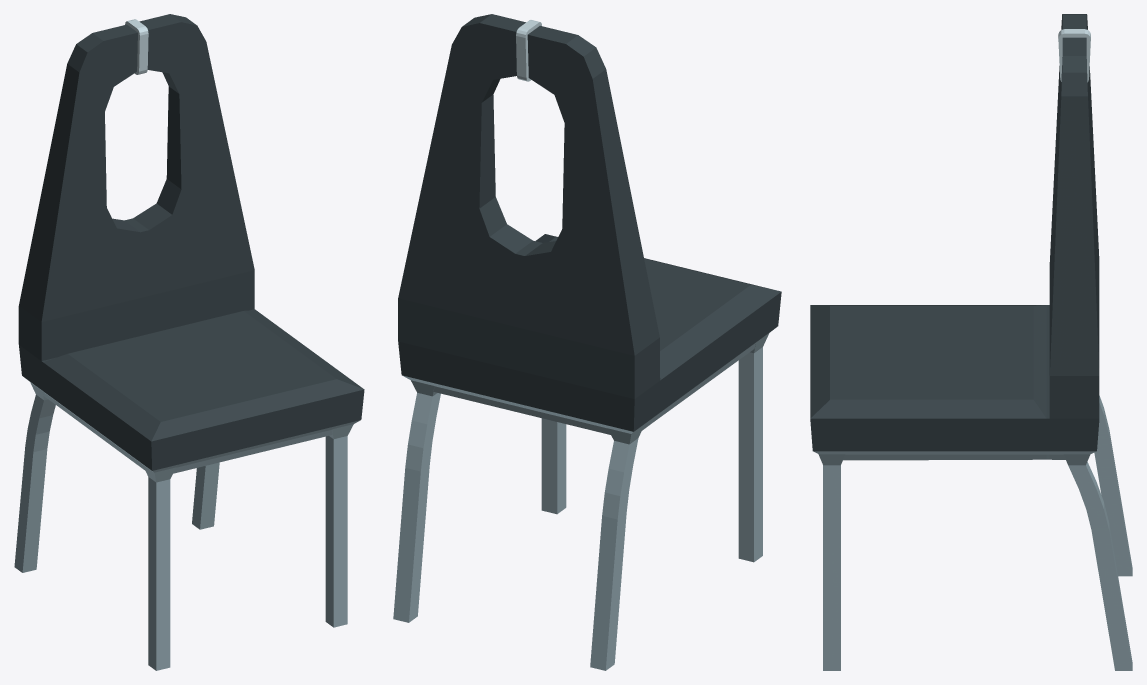
File: DineTableChair.fbx
The picture shows the model from 3 angles, left to right: view 1: azimuth 30°, elevation 25°; view 2: azimuth 150°, elevation 25°; view 3: azimuth 270°, elevation 25°; orthographic projection. The views are drawn at different scales.
Visible parts, largest first — view 1: DineTableChair; view 2: DineTableChair; view 3: DineTableChair.
Boxes of the visible parts, bbox=[...] form: DineTableChair: bbox=[14, 14, 364, 670]; DineTableChair: bbox=[393, 14, 781, 670]; DineTableChair: bbox=[810, 14, 1132, 670].
Size of the model in its own units: 52.15 by 126 by 62.59.
